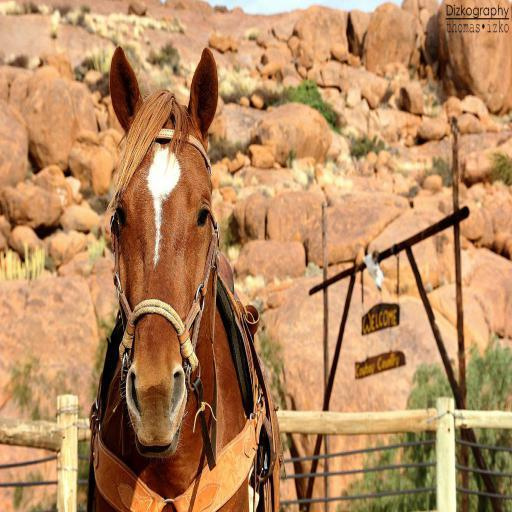horse: (88, 46, 284, 512)
